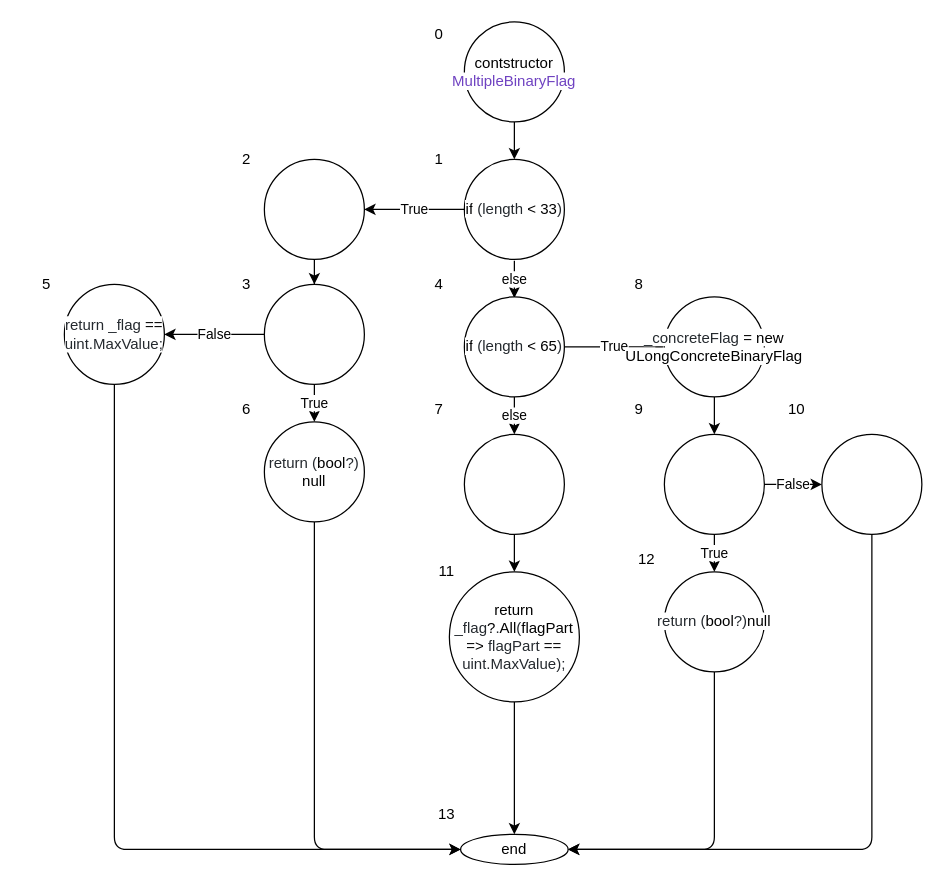
This 949x886 diagram has some shape labels left out. Here are the shapes that lost their labels. From the top down, the centre of each, then its label:
At point (313, 208): "_concreteFlag = new UIntConcreteBinaryFlag".
At point (313, 333): "if ( _flag == null )".
At point (513, 483): "_concreteFlag = new UIntArrayConcreteBinaryFlag".
At point (713, 483): "if ( _flag == null)".
At point (871, 483): "return _flag == ulong . MaxValue ;".
